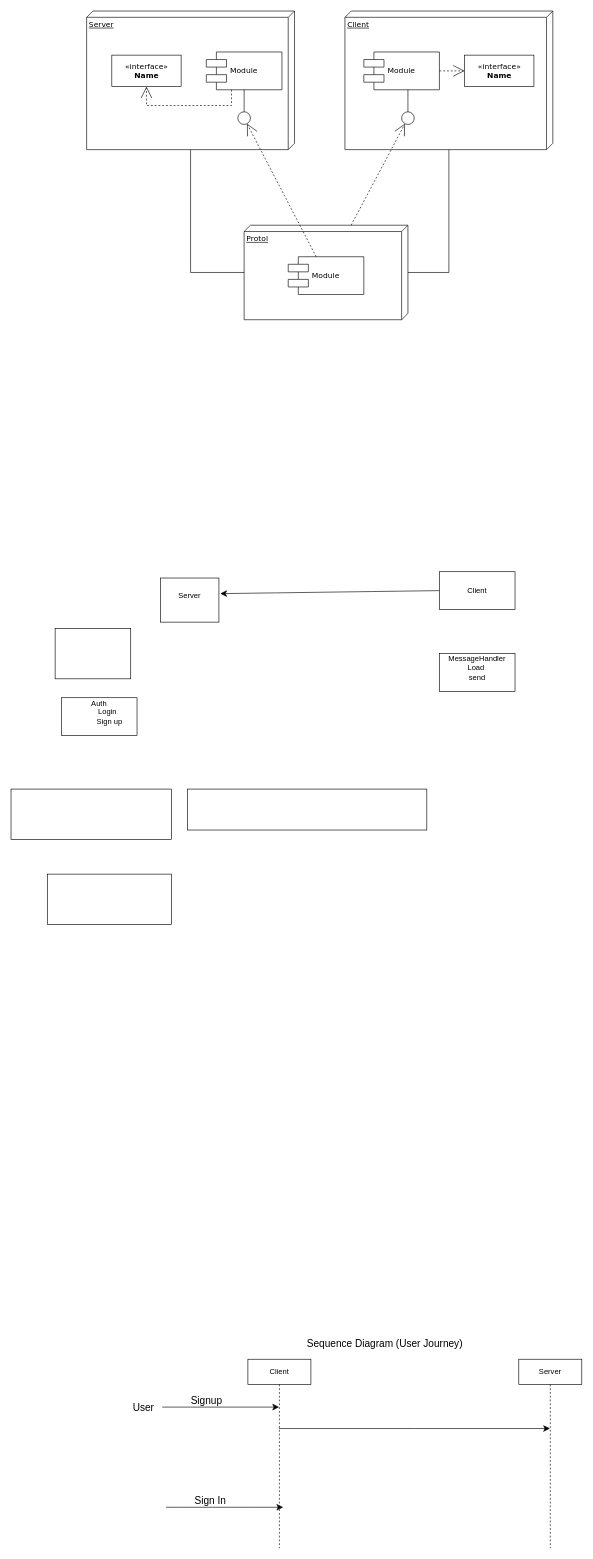
Some shapes in this 593 by 1559 pixel diagram are drawn without their labels. Here are the shapes that lost their labels. From the top down, the centre of each, then its label:
At point 92,653: "AccountManager Create Delete lookup".
At point 91,813: "UsersTable user_id | nickname | password".
At point 307,809: "MessagesTable msg_id | message | status | sender_id | receiver_id | timestamp".
At point 109,899: "UserConfig user_id | MSG_VIEW_LIMIT".
